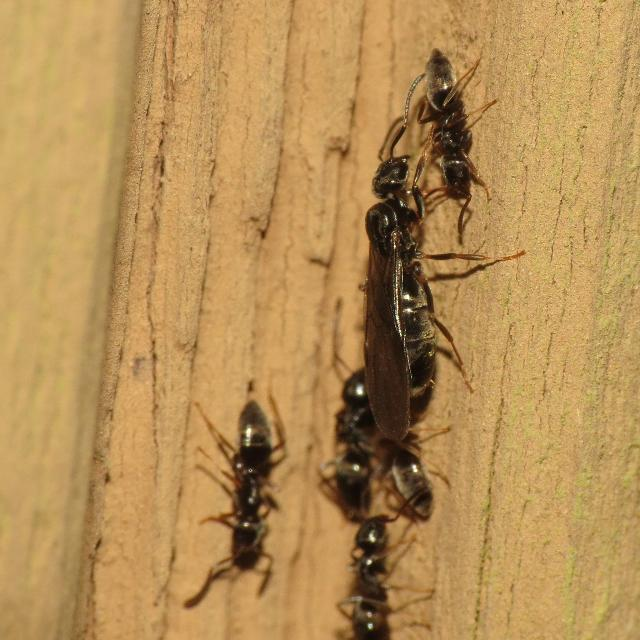Tapinoma: (342, 134, 463, 372), (188, 382, 302, 596), (398, 48, 498, 216), (375, 346, 463, 532), (326, 498, 424, 638), (320, 358, 394, 516)
